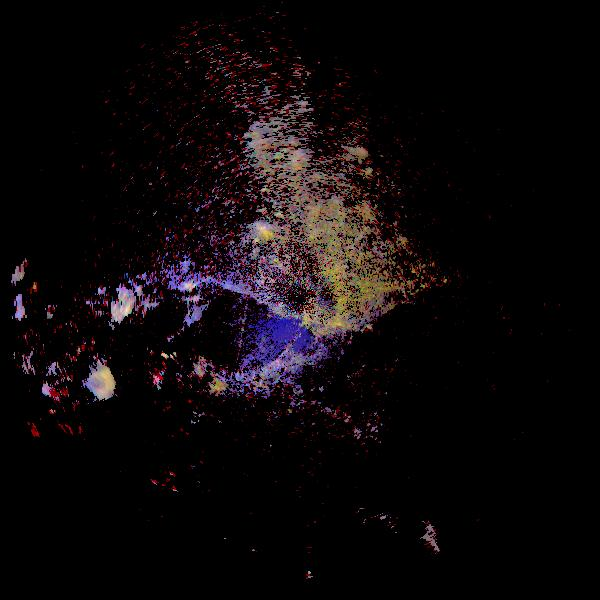roost: (65, 351, 131, 417)
